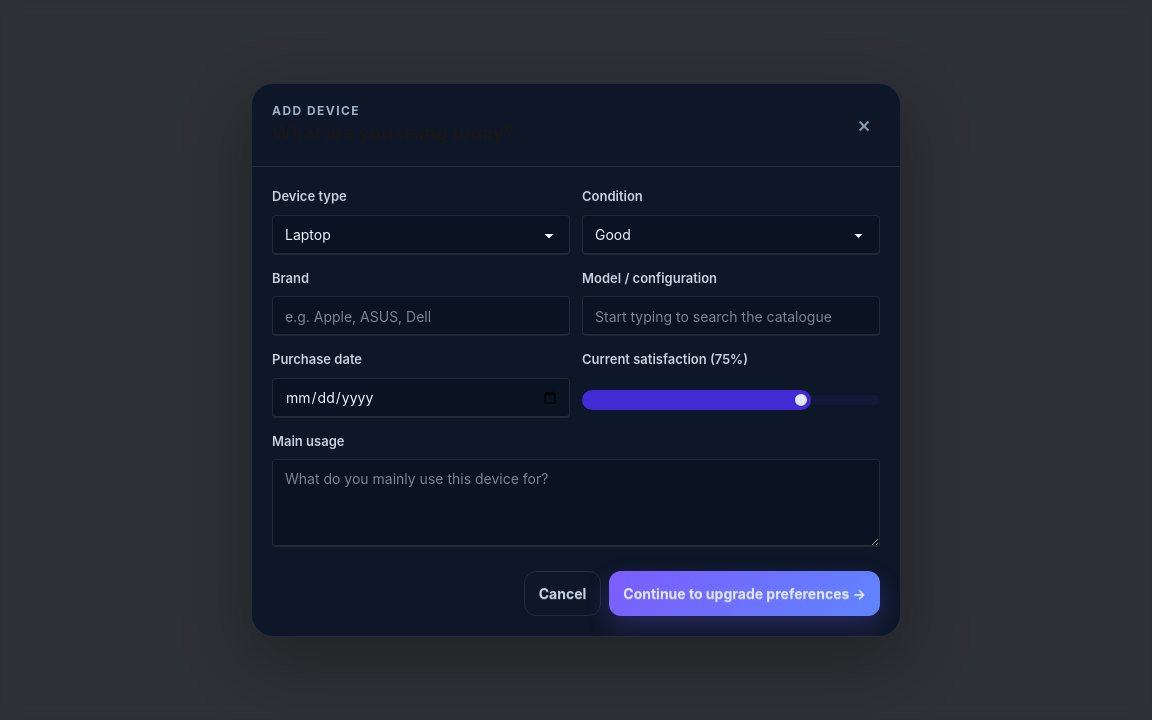
Test: warning when a prefilled spec is emptied › shows the catalogue value and can put it back
Step 1. Type "15 pro" into the dropdown labelled "Model / configuration" → (731, 316), box [582,296,880,336]
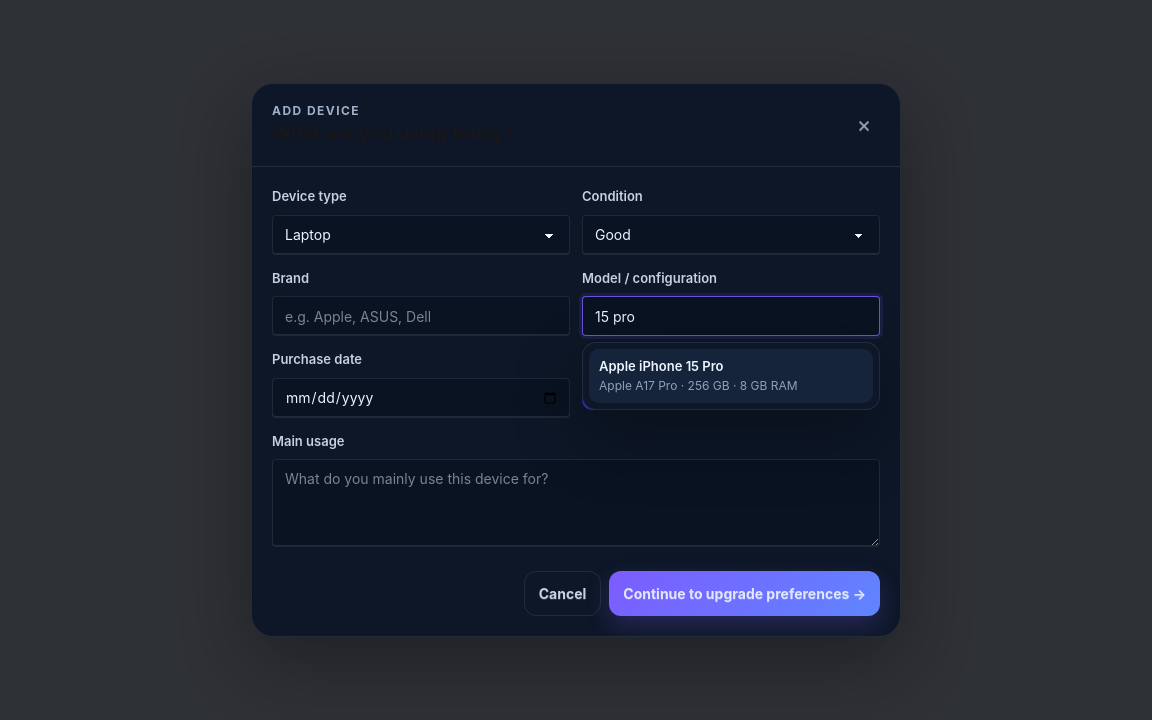
Step 2. Click the option "Apple iPhone 15 Pro Apple A17 Pro · 256 GB · 8 GB RAM" → click(731, 376), box [589,349,873,402]
(page scrolled)
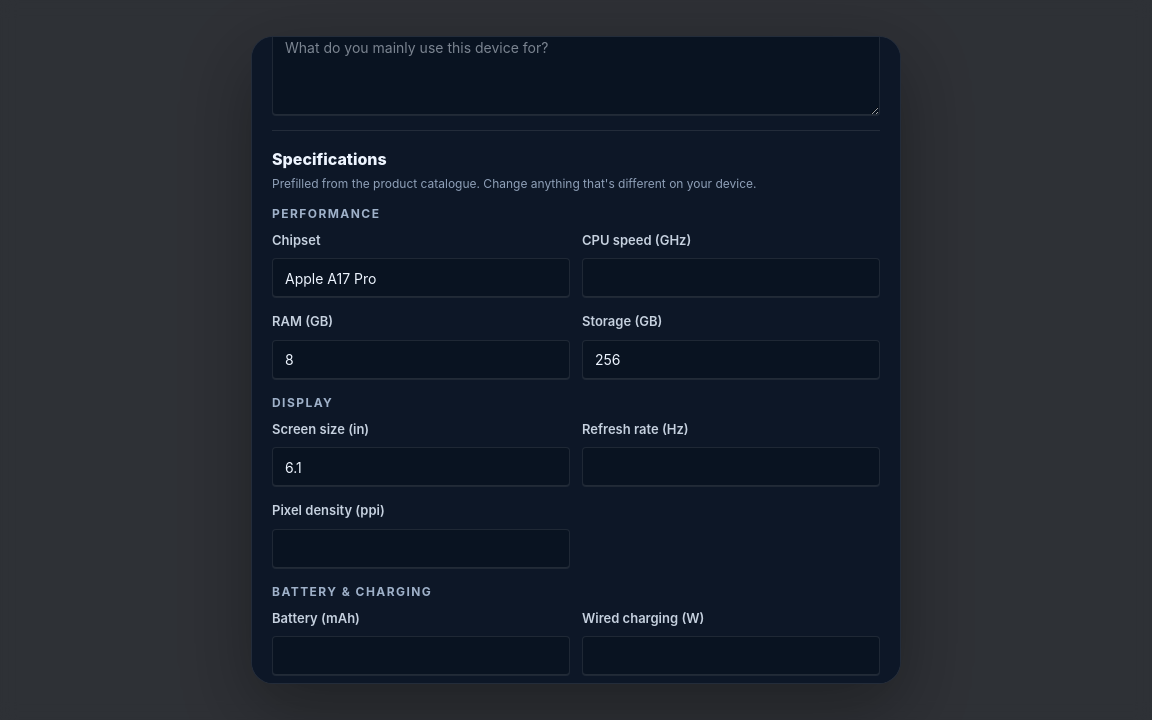
Step 3. Clear the number field labelled "RAM (GB)" → (421, 360), box [272,340,570,380]
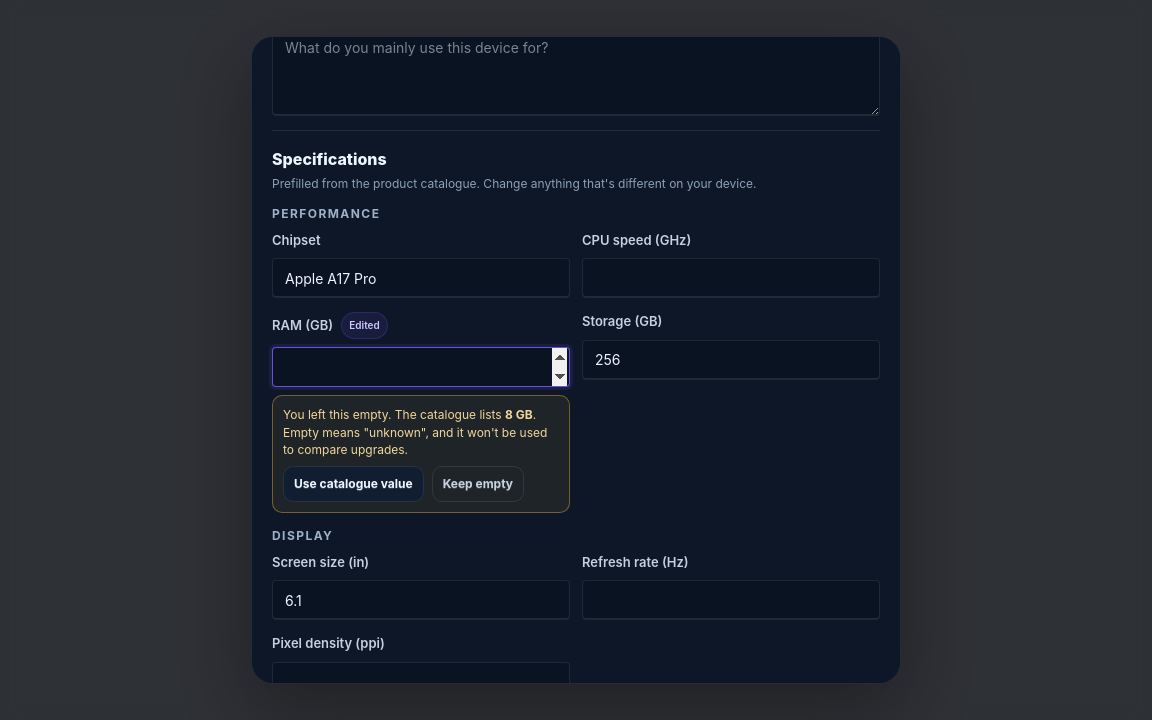
Expected: the message shows "You left this empty. The catalogue lists 8 GB.", [272,395,570,513]
Step 4. Click the button "Use catalogue value" → click(353, 484), box [283,466,424,502]
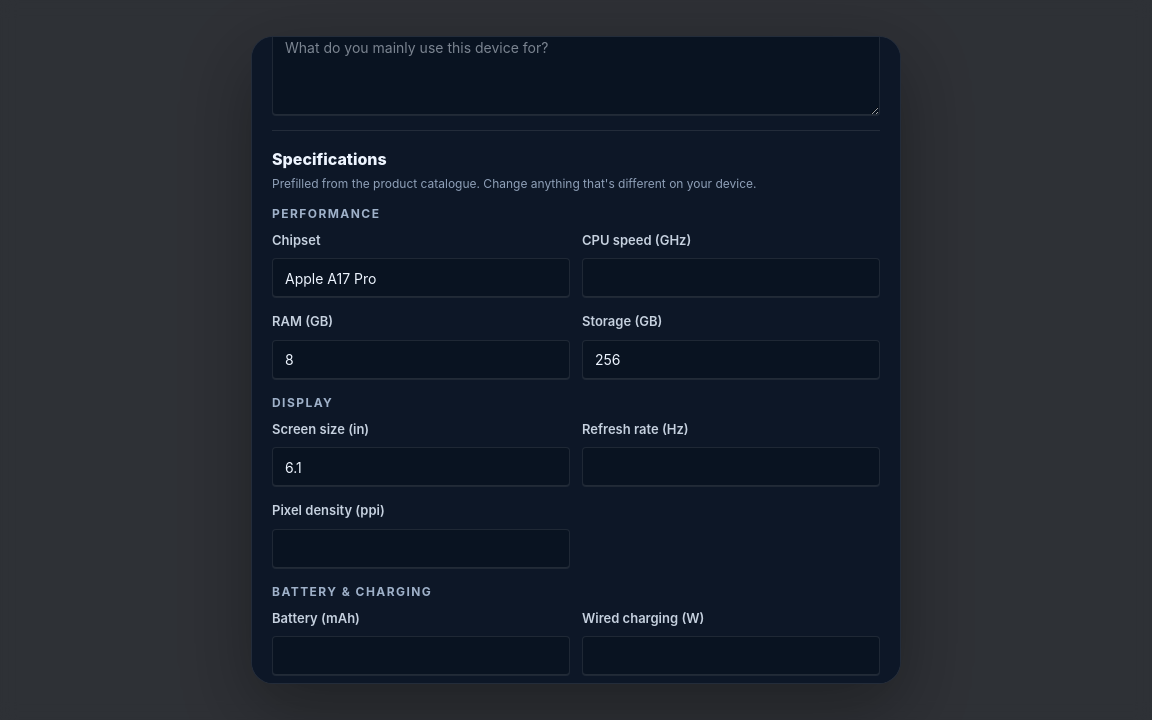
Expected: the number field labelled "RAM (GB)" holds "8", [272,340,570,380]
Expected: the message is gone
